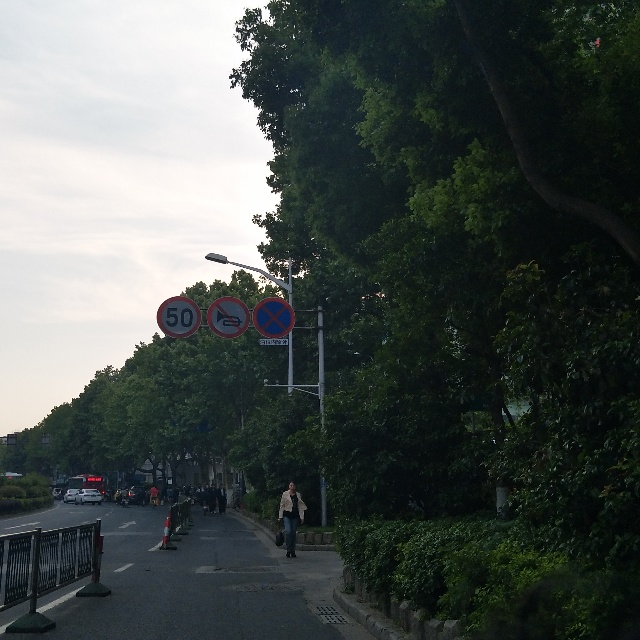nohonk: (203, 294, 252, 340)
stop: (253, 296, 299, 349)
